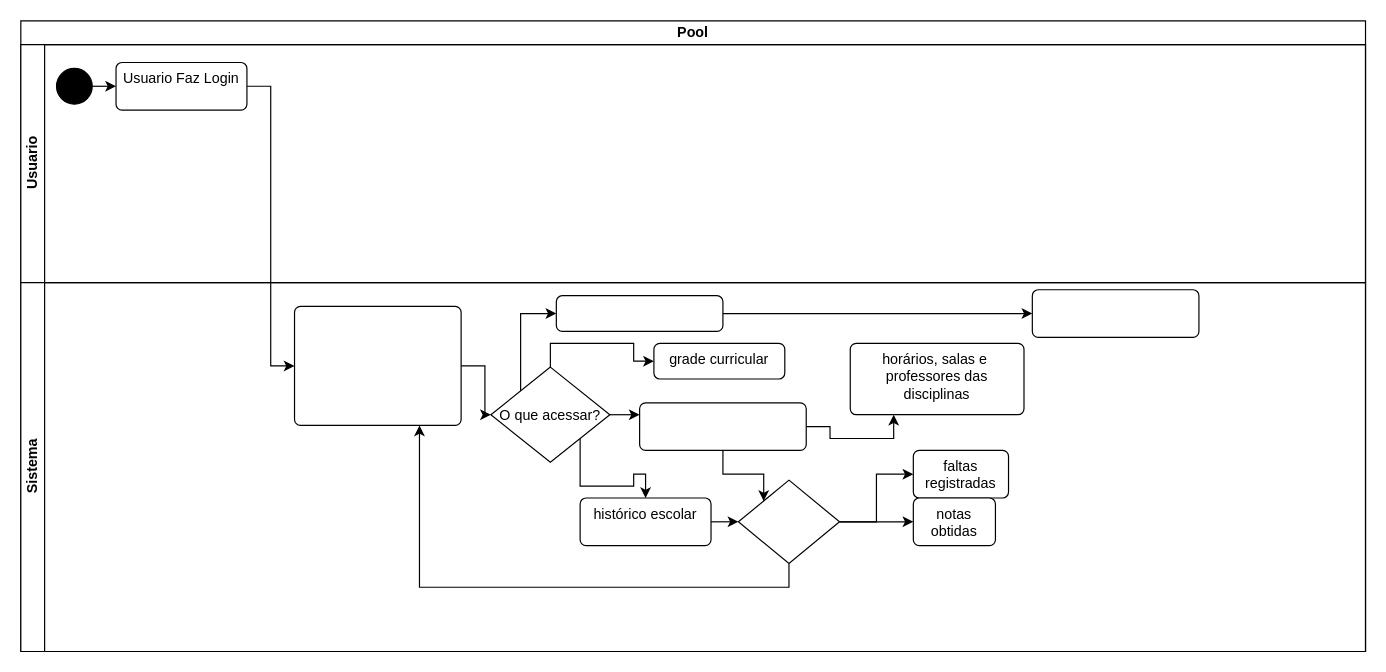
Some shapes in this 1386 by 672 pixel diagram are drawn without their labels. The shapes that lost their labels are listed below. From the top down, each one's centre as x and y in pixels, then its label:
At (639,313): "calendário acadêmico".
At (1115,313): "exibir datas de eventos relevantes".
At (377,365): "Vida Academica".
At (722,426): "disciplinas matriculadas".
At (788,521): "Ver notas e Faltas?".
